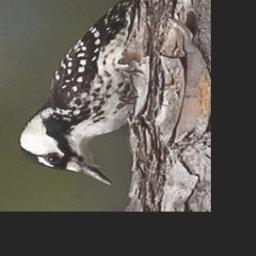Woodpecker: (13, 0, 152, 187)
